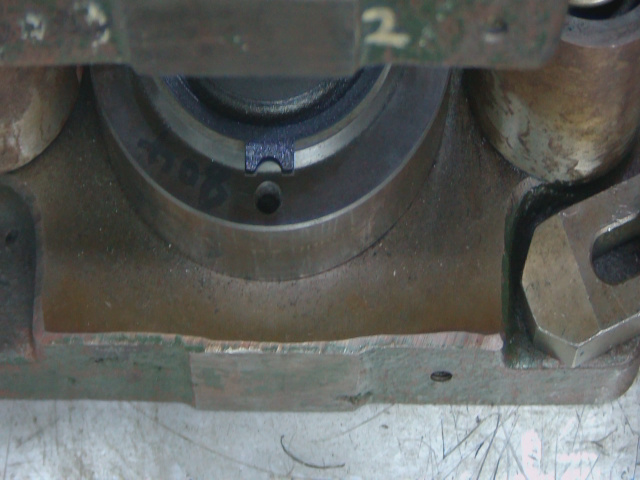HX2: (244, 136, 305, 188)
